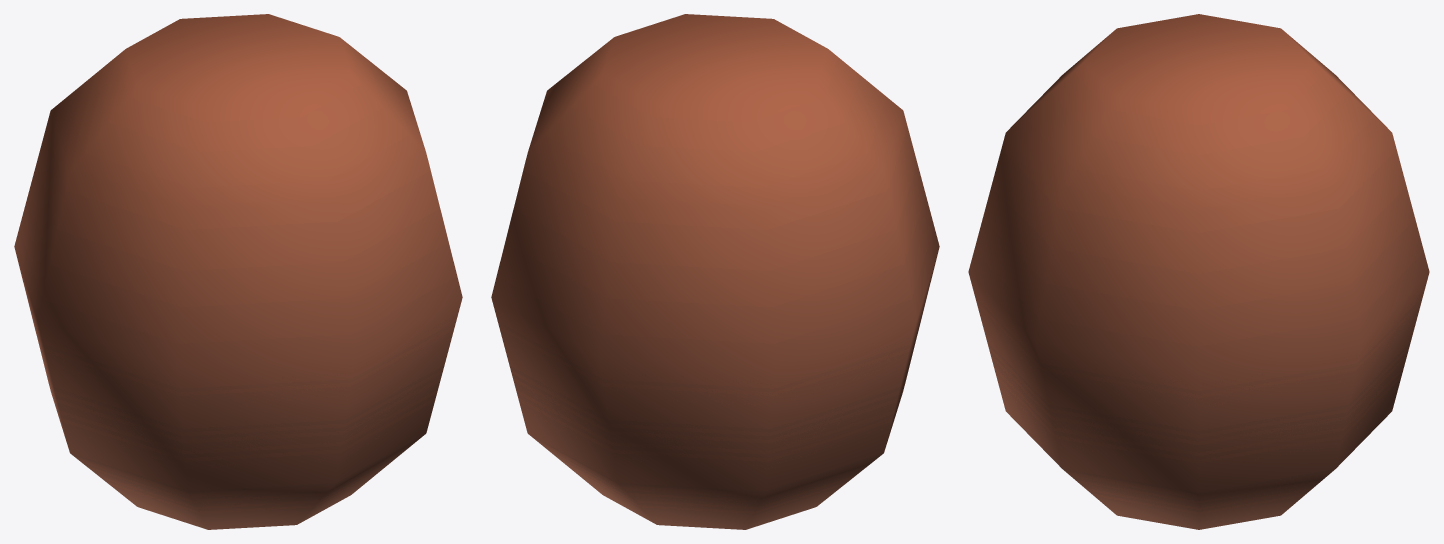
File: coconut.glb
The picture shows the model from 3 angles, left to right: view 1: azimuth 30°, elevation 25°; view 2: azimuth 150°, elevation 25°; view 3: azimuth 270°, elevation 25°; orthographic projection.
Visible parts, largest first — view 1: coconut; view 2: coconut; view 3: coconut.
Boxes of the visible parts, x1,y1,x2,y2 form: coconut: [14, 14, 462, 529]; coconut: [491, 14, 939, 529]; coconut: [968, 14, 1429, 529].
Bounding box in the file's own units: 0.2484 × 0.2484 × 0.2484.
1 material, 1 textured.
